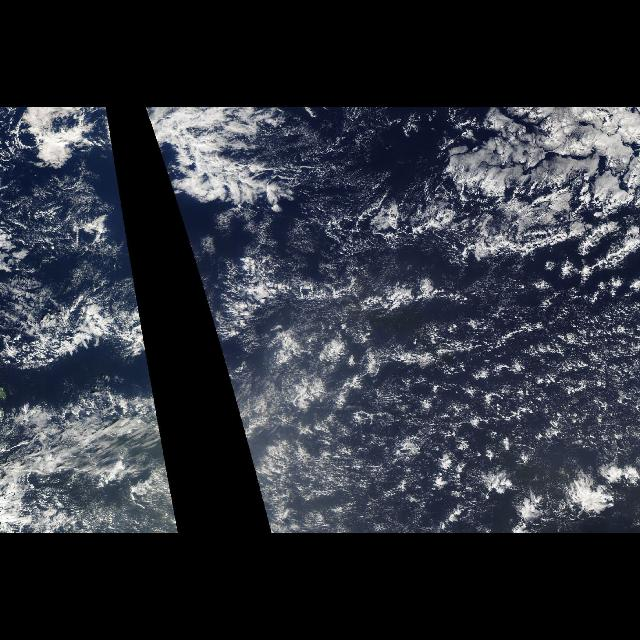Fish: (188, 247, 358, 375), (0, 247, 152, 375), (144, 107, 296, 209), (24, 107, 124, 209)
Flower: (398, 436, 640, 532)
Sugar: (231, 304, 639, 528), (249, 108, 411, 280), (0, 170, 121, 294)
